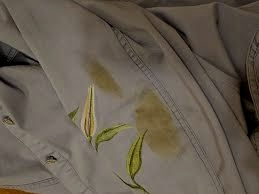earth: (136, 95, 167, 127), (89, 63, 112, 87), (151, 129, 175, 150)
